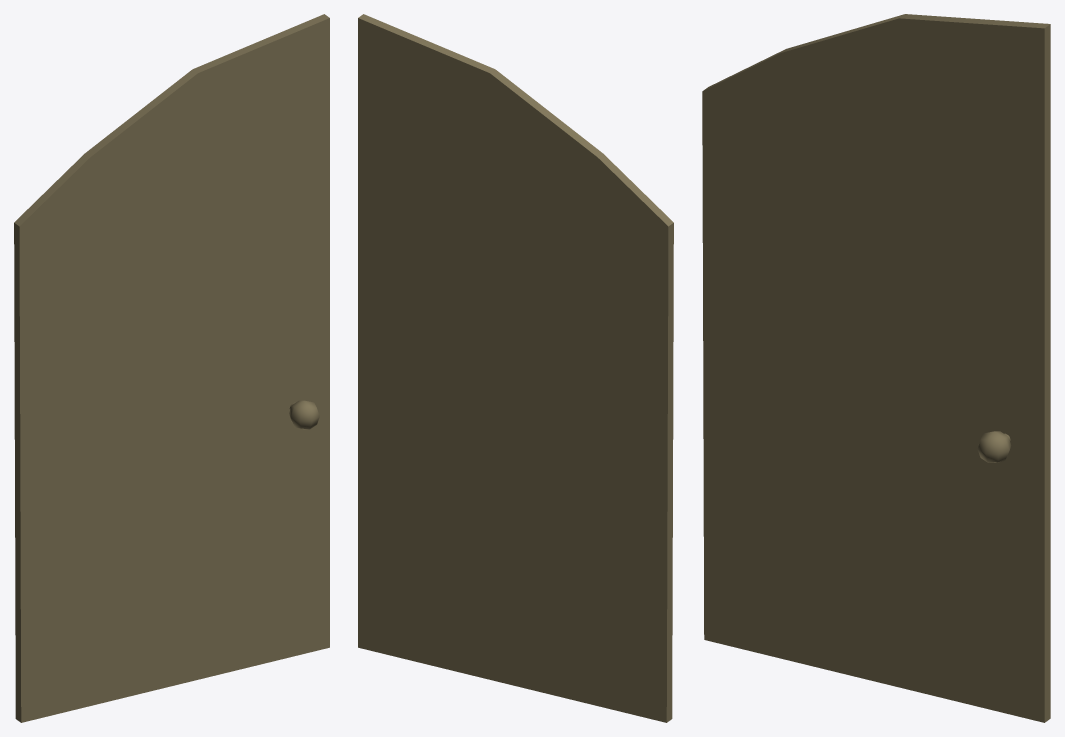
File: GarageDoorLeft_1.fbx
3 views of the same model, side by side, from view 1: azimuth 30°, elevation 25°; view 2: azimuth 150°, elevation 25°; view 3: azimuth 330°, elevation 25° (orthographic). The views are drawn at different scales.
Parts seen in each view (by area): view 1: GarageDoorLeft_1; view 2: GarageDoorLeft_1; view 3: GarageDoorLeft_1.
Part boxes in pixels (bbox=[...]): GarageDoorLeft_1: bbox=[14, 14, 329, 722]; GarageDoorLeft_1: bbox=[358, 14, 673, 722]; GarageDoorLeft_1: bbox=[702, 14, 1050, 722].
Bounding box in the file's own units: 108 × 209 × 14.09.
